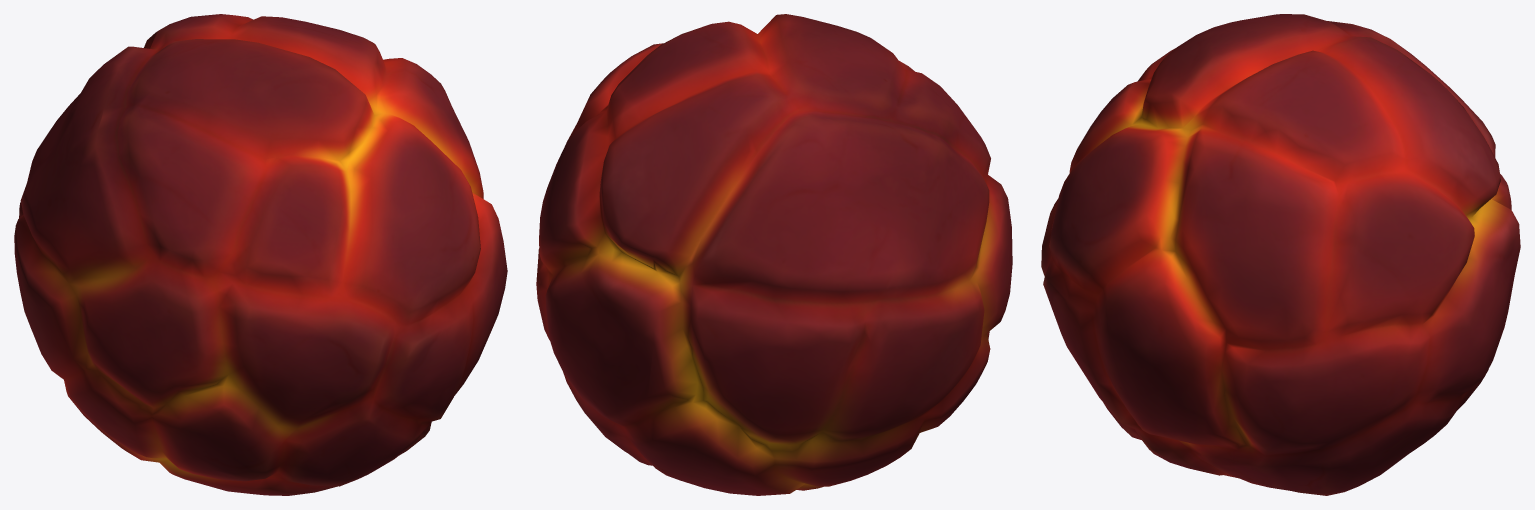
File: Planet_MagmaMass.fbx
3 renders of one model, left to right at view 1: azimuth 30°, elevation 25°; view 2: azimuth 150°, elevation 25°; view 3: azimuth 270°, elevation 25°, orthographic. The views are drawn at different scales.
Visible parts, largest first — view 1: Planet_MagmaMass; view 2: Planet_MagmaMass; view 3: Planet_MagmaMass.
Part boxes in pixels (x1=…): Planet_MagmaMass: x1=14, y1=14, x2=507, y2=495; Planet_MagmaMass: x1=536, y1=14, x2=1012, y2=495; Planet_MagmaMass: x1=1041, y1=14, x2=1520, y2=495.
Size of the model in its own units: 202 by 200 by 208.
